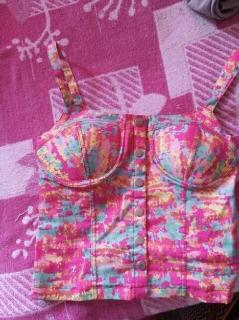sling dress: (31, 42, 239, 304)
